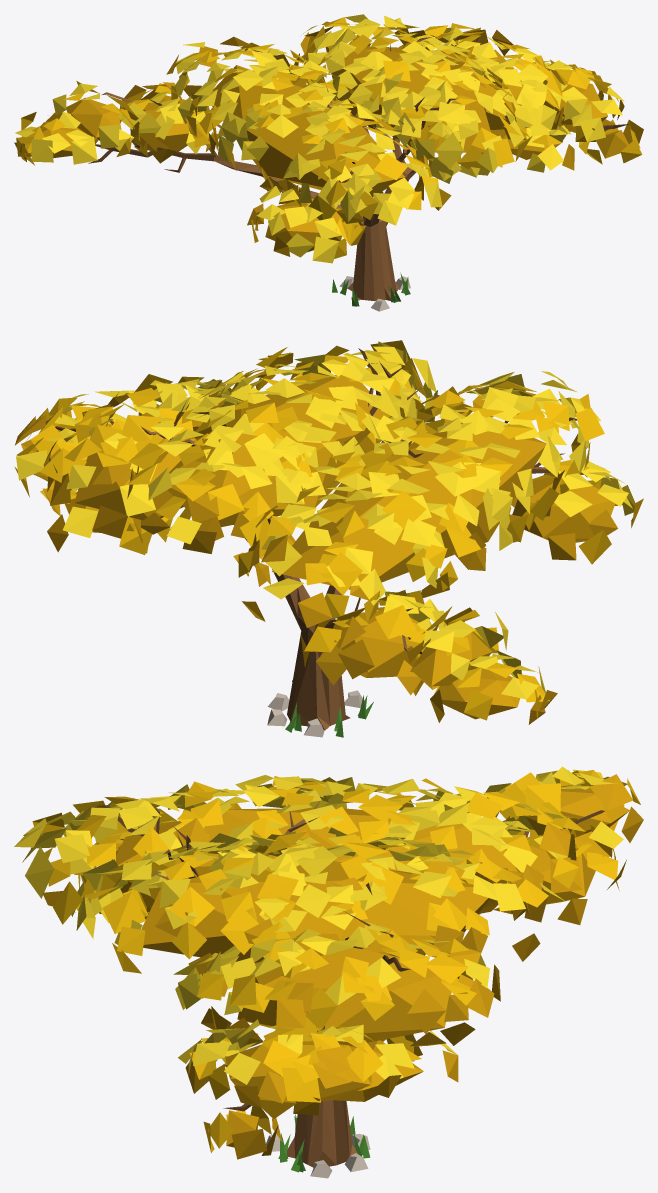
File: guayacan_4_bloom.glb
3 renders of one model, top to bottom at view 1: azimuth 30°, elevation 25°; view 2: azimuth 150°, elevation 25°; view 3: azimuth 270°, elevation 25°, orthographic. The views are drawn at different scales.
Visible parts, largest first — view 1: guayacan_4_bloom; view 2: guayacan_4_bloom; view 3: guayacan_4_bloom.
Boxes of the visible parts, box(x1,y1,x2,y2) form: guayacan_4_bloom: box(14, 14, 643, 311); guayacan_4_bloom: box(14, 340, 643, 737); guayacan_4_bloom: box(14, 766, 643, 1178).
Bounding box in the file's own units: 12.44 × 5.68 × 9.82.
